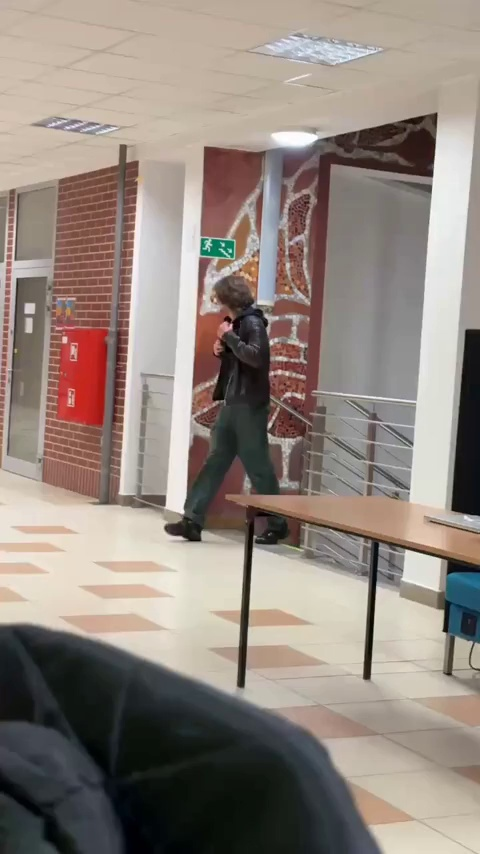no vest: (196, 270, 299, 553)
